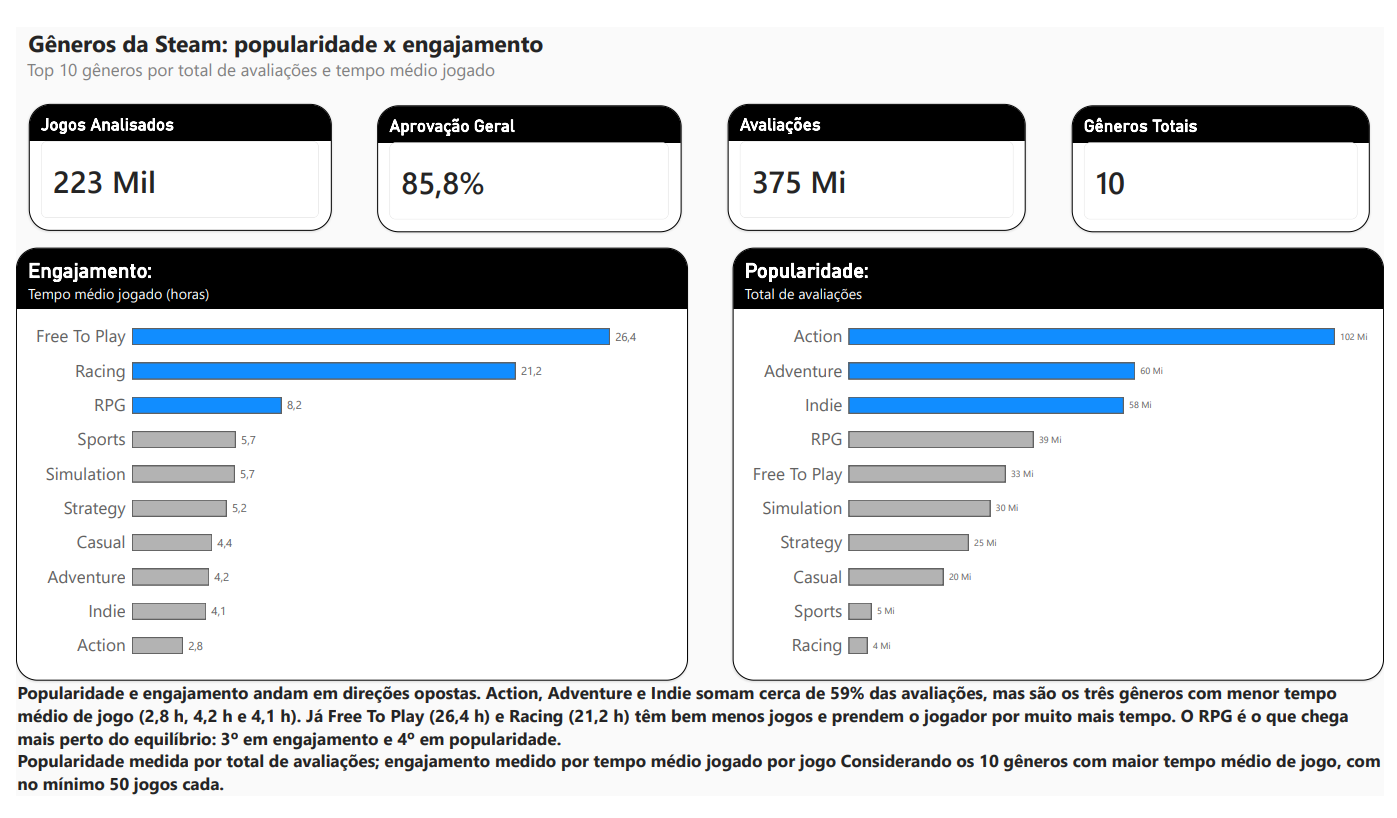

The dashboard page shown, as its layout file describes it:
{"tool":"powerbi","page":{"name":"Página 1","canvas":[1920,1080],"ordinal":0},"visuals":[{"type":"barChart","title":"Engajamento:","fields":{"Category":["top_10_generos_steam.Genero_Lista"],"Y":["top_10_generos_steam.Tempo Médio (h)"]},"box":[0,310.2,942.9,608.2],"z":0},{"type":"barChart","title":"Popularidade:","fields":{"Category":["top_10_generos_steam.Genero_Lista"],"Y":["Sum(top_10_generos_steam.Total_Avaliacoes)"]},"box":[1006.1,310.2,914.3,608.2],"z":1},{"type":"cardVisual","title":"Aprovação Geral","fields":{"Data":["top_10_generos_steam.Aprovação Geral"]},"box":[507.5,110.2,426.5,177.6],"z":4},{"type":"cardVisual","title":"Gêneros Totais","fields":{"Data":["CountNonNull(top_10_generos_steam.Genero_Lista)"]},"box":[1481.6,110.2,418.4,177.6],"z":5},{"type":"cardVisual","title":"Avaliações","fields":{"Data":["Sum(top_10_generos_steam.Total_Avaliacoes)"]},"box":[998.6,108.2,418.4,177.6],"z":6},{"type":"cardVisual","title":"Jogos Analisados","fields":{"Data":["Sum(top_10_generos_steam.Qtd_Jogos)"]},"box":[18.4,108.2,424.5,177.6],"z":7},{"type":"textbox","box":[0,0,1920.4,108.2],"z":8},{"type":"textbox","box":[2,918.4,1918.4,161.2],"z":9}]}

Visuals, with their boxes in screenshot pixels (x1, y1, x2, y2):
"Engajamento:" barChart: pyautogui.locateOnScreen(11, 248, 687, 684)
"Popularidade:" barChart: pyautogui.locateOnScreen(733, 248, 1389, 684)
"Aprovação Geral" cardVisual: pyautogui.locateOnScreen(375, 105, 681, 232)
"Gêneros Totais" cardVisual: pyautogui.locateOnScreen(1074, 105, 1374, 232)
"Avaliações" cardVisual: pyautogui.locateOnScreen(727, 103, 1028, 231)
"Jogos Analisados" cardVisual: pyautogui.locateOnScreen(24, 103, 329, 231)
textbox: pyautogui.locateOnScreen(11, 25, 1389, 103)
textbox: pyautogui.locateOnScreen(12, 684, 1389, 800)
